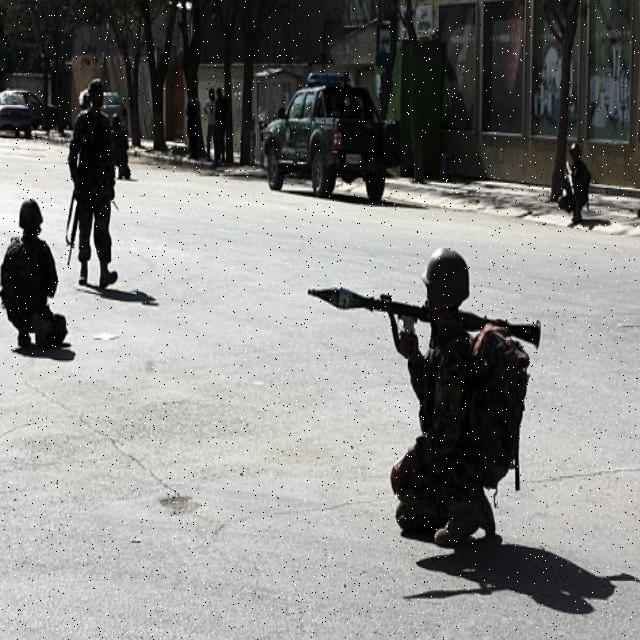bazooka: (296, 264, 560, 392)
